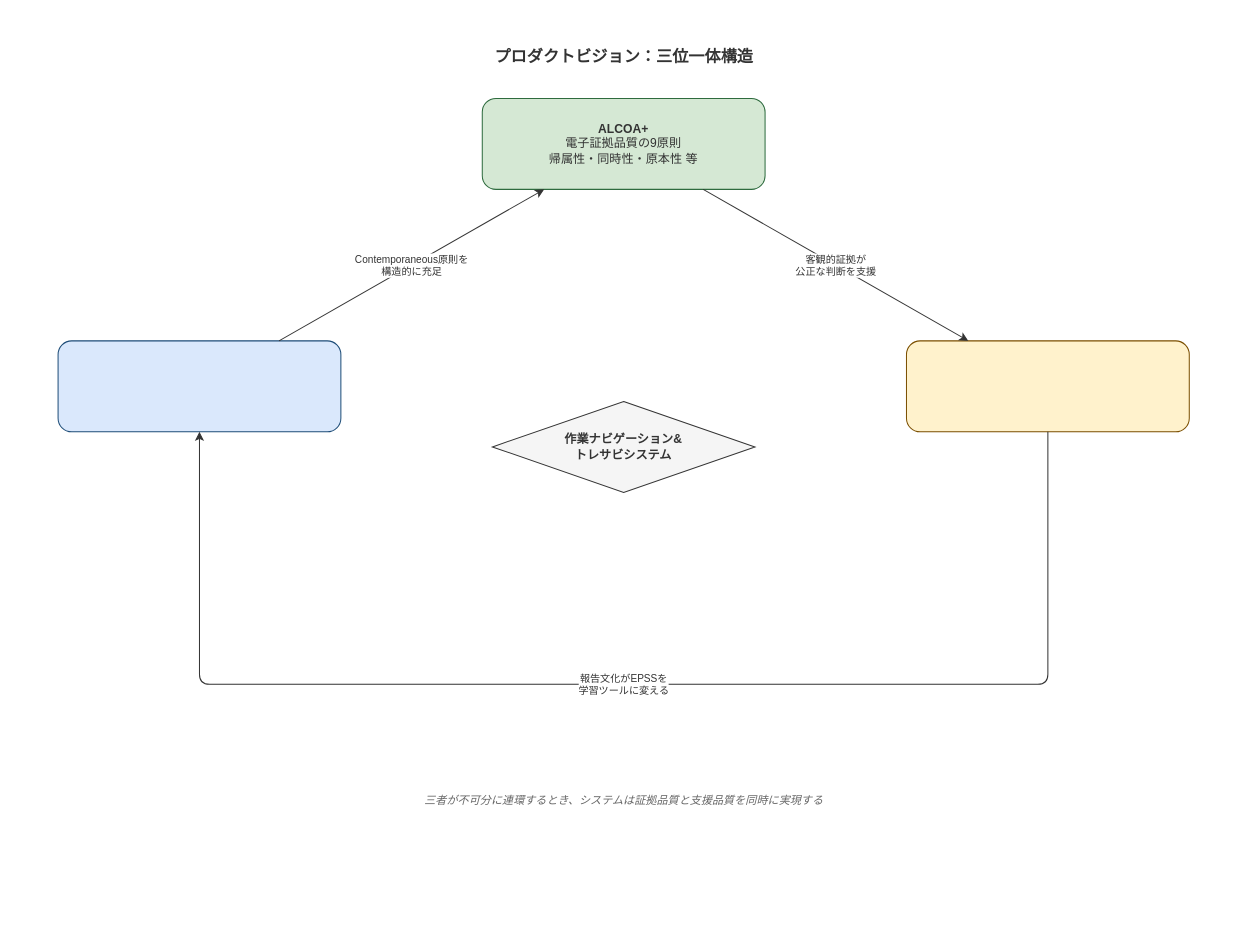
Image size: 1246x943. Some labels were removed from this diagram. Each missing label, with the box of its shape:
Intrinsic EPSS 手順提示・記録・検査・ トレサビを一体統合: (57, 340, 341, 432)
Just Culture 記録は学習のために存在する スリップ・ラプスは問責しない: (905, 340, 1189, 432)
